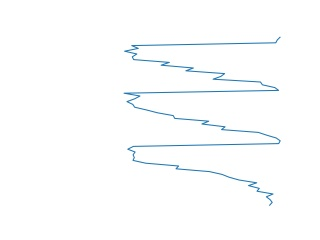distributaryMouthBar: (120, 32, 285, 208)
